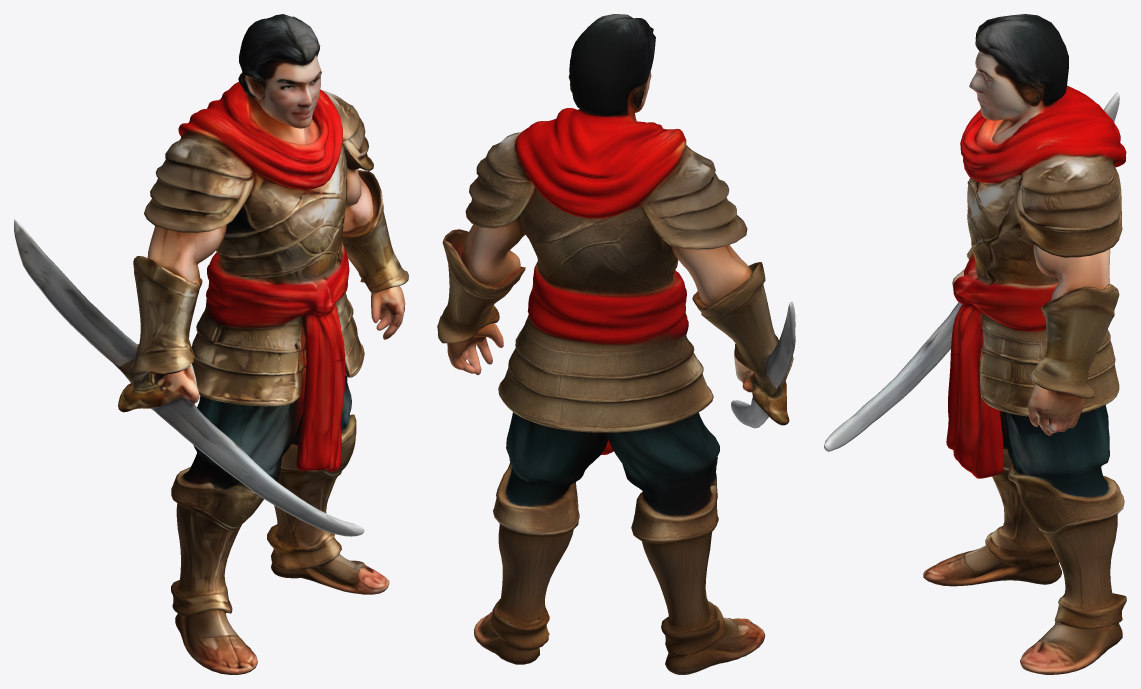
File: ThanhGiong_Hero.glb
The picture shows the model from 3 angles, left to right: view 1: azimuth 30°, elevation 25°; view 2: azimuth 150°, elevation 25°; view 3: azimuth 270°, elevation 25°; orthographic projection. The views are drawn at different scales.
Parts seen in each view (by area): view 1: model; view 2: model; view 3: model.
Boxes of the visible parts, <box> form: model: <box>14,14,408,674</box>; model: <box>437,14,795,674</box>; model: <box>824,14,1126,674</box>.
Size of the model in its own units: 1.21 by 1.9 by 0.8672.
1 material, 1 textured.
